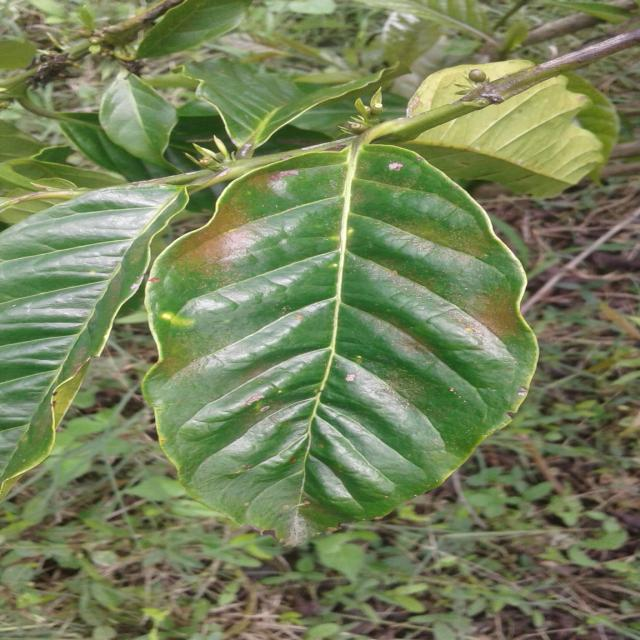Plaga-AranaRoja: (141, 138, 540, 553)
